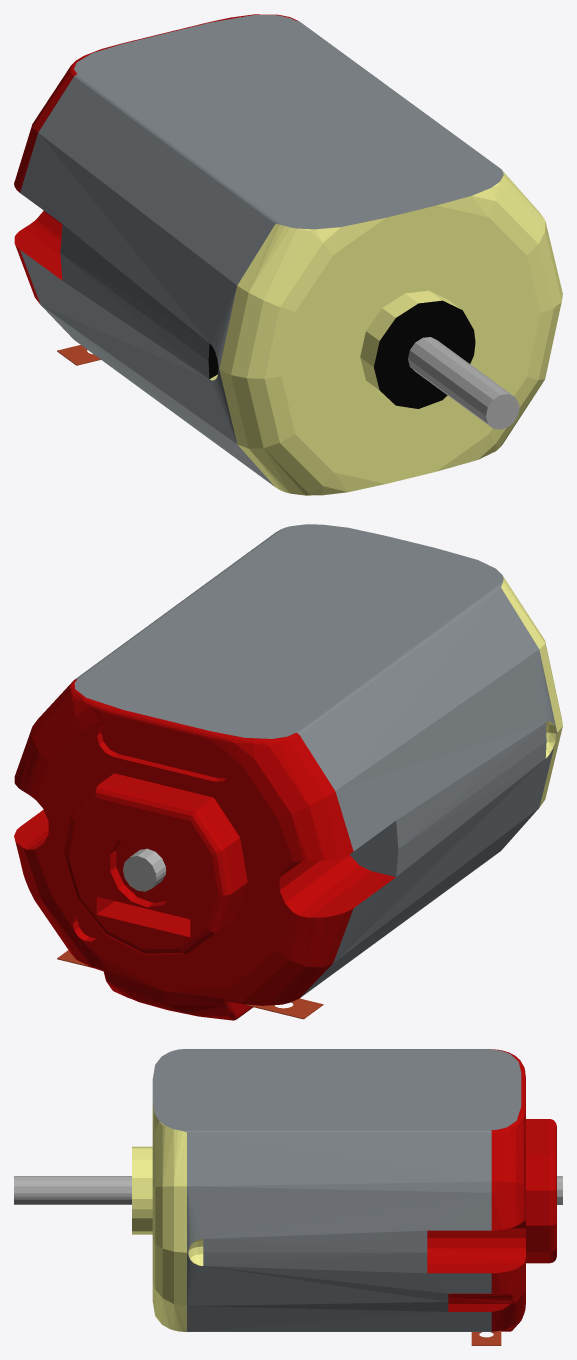
The model's file is Motor.fbx.
3 renders of one model, top to bottom at view 1: azimuth 30°, elevation 25°; view 2: azimuth 150°, elevation 25°; view 3: azimuth 270°, elevation 25°, orthographic. The views are drawn at different scales.
Visible parts, largest first — view 1: motor_2; view 2: motor_2; view 3: motor_2.
Boxes of the visible parts, x1,y1,x2,y2 form: motor_2: (14,14,562,495); motor_2: (14,524,562,1020); motor_2: (14,1049,562,1345).
Size of the model in its own units: 1.97 by 1.62 by 3.67.
